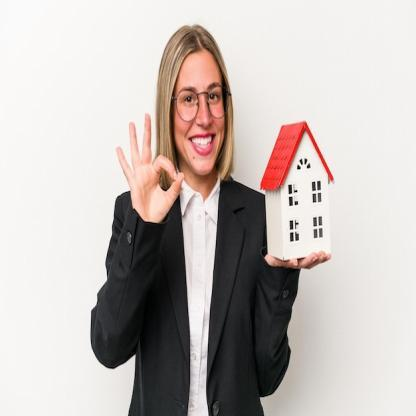ok: (113, 108, 186, 220)
